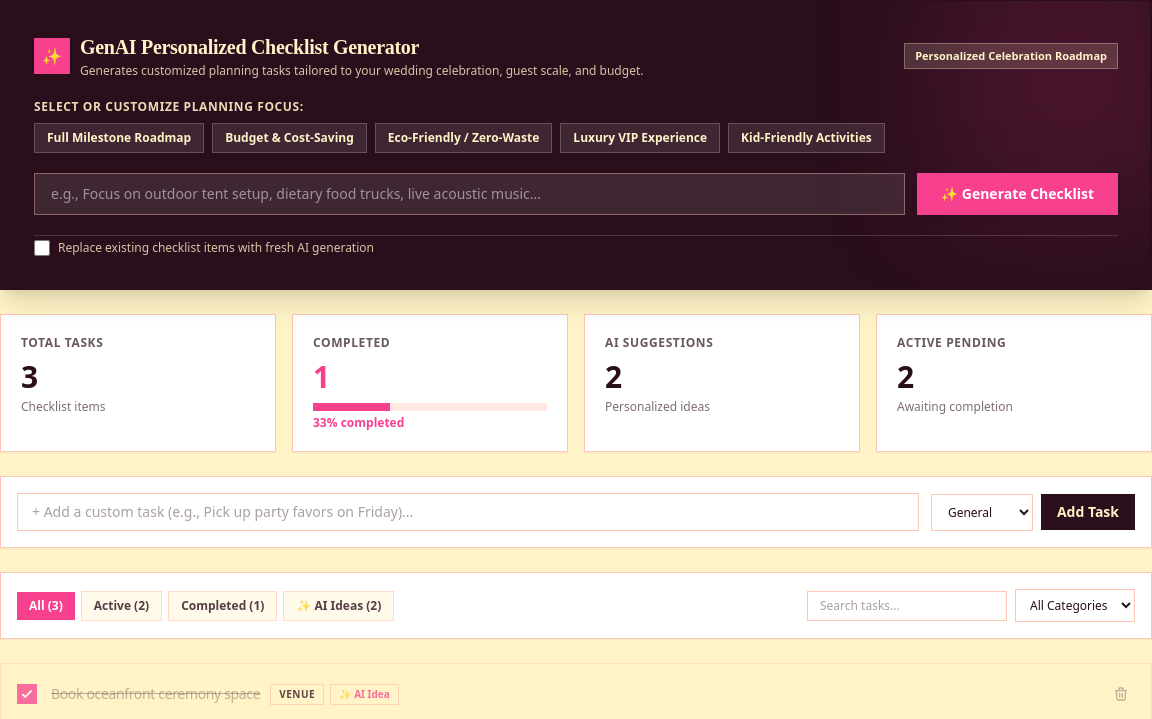
ChecklistTracker Component › filters items by Active, Completed, and AI-only tabs
The width and height of the screenshot is (1152, 719).
Expected: the text "Book oceanfront ceremony space" is shown, [51, 684, 260, 704]
Note: Filter Active
Click the button "Active (2)": (122, 606) [81, 590, 162, 620]
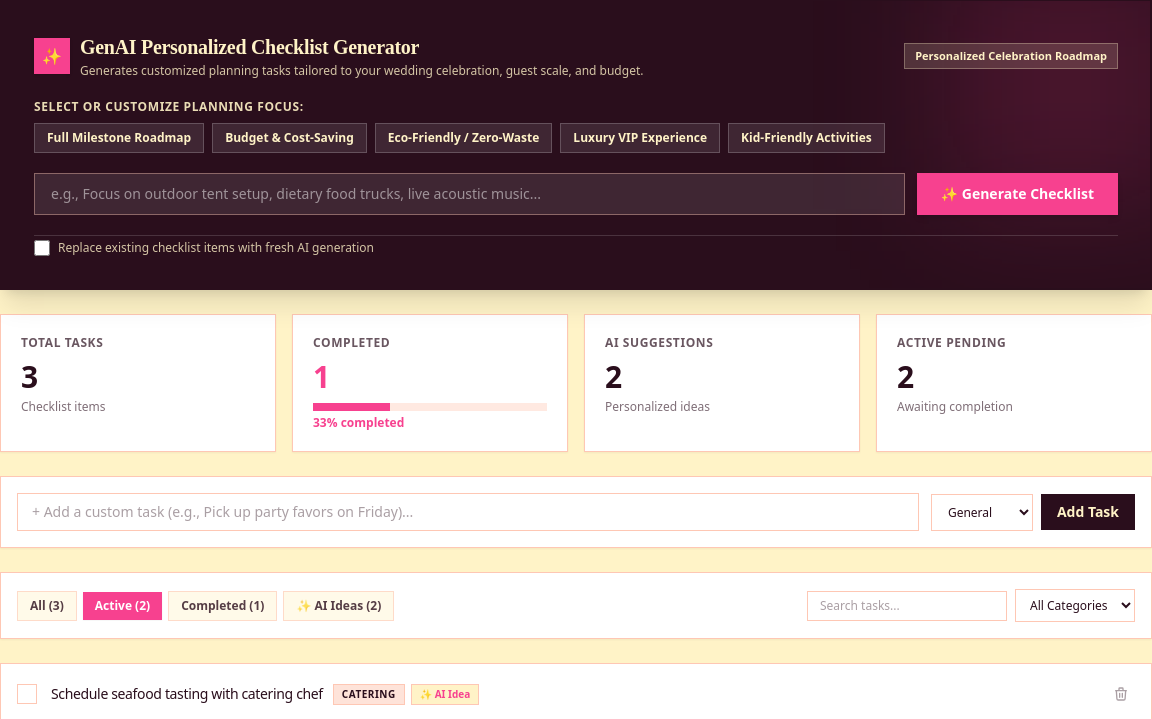
Expected: the text "Schedule seafood tasting with catering chef" is shown, [51, 684, 323, 704]
Now the text "Book oceanfront ceremony space" is gone
Note: Filter Completed
Click the button "Completed (1)": (223, 606) [168, 590, 277, 620]
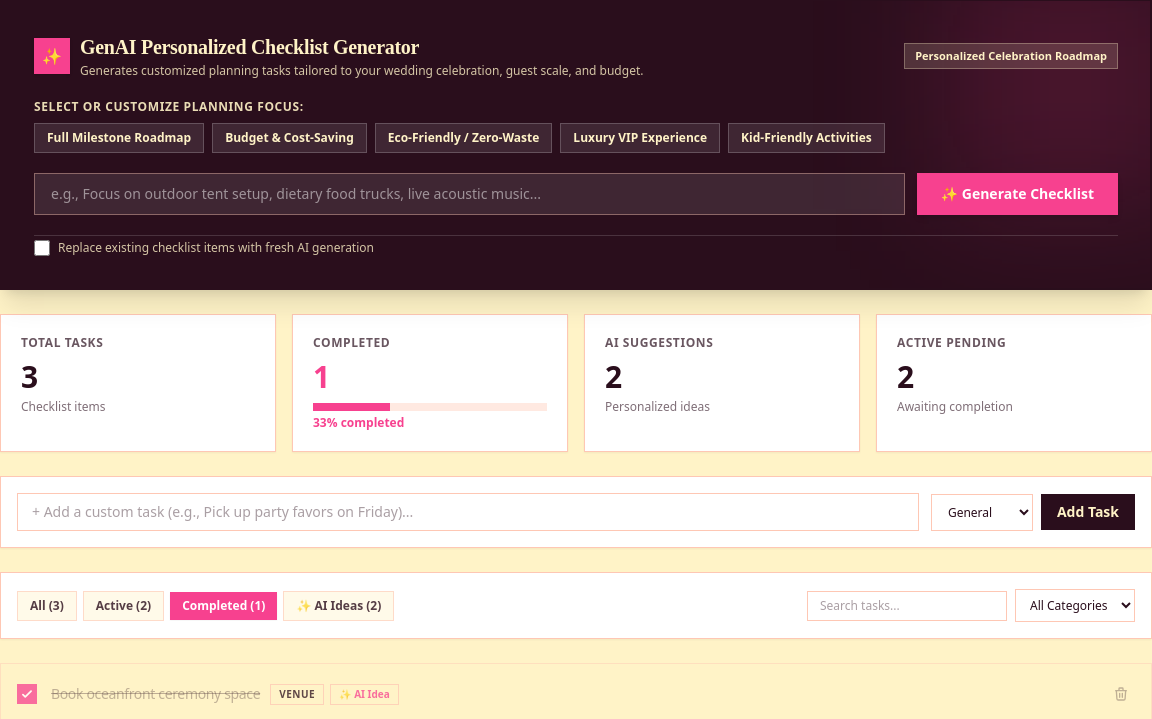
Now the text "Book oceanfront ceremony space" is shown, box [51, 684, 260, 704]
Now the text "Schedule seafood tasting with catering chef" is gone
Note: Filter AI Ideas
Click the button "✨ AI Ideas (2)": (339, 606) [283, 590, 394, 620]
(page scrolled)
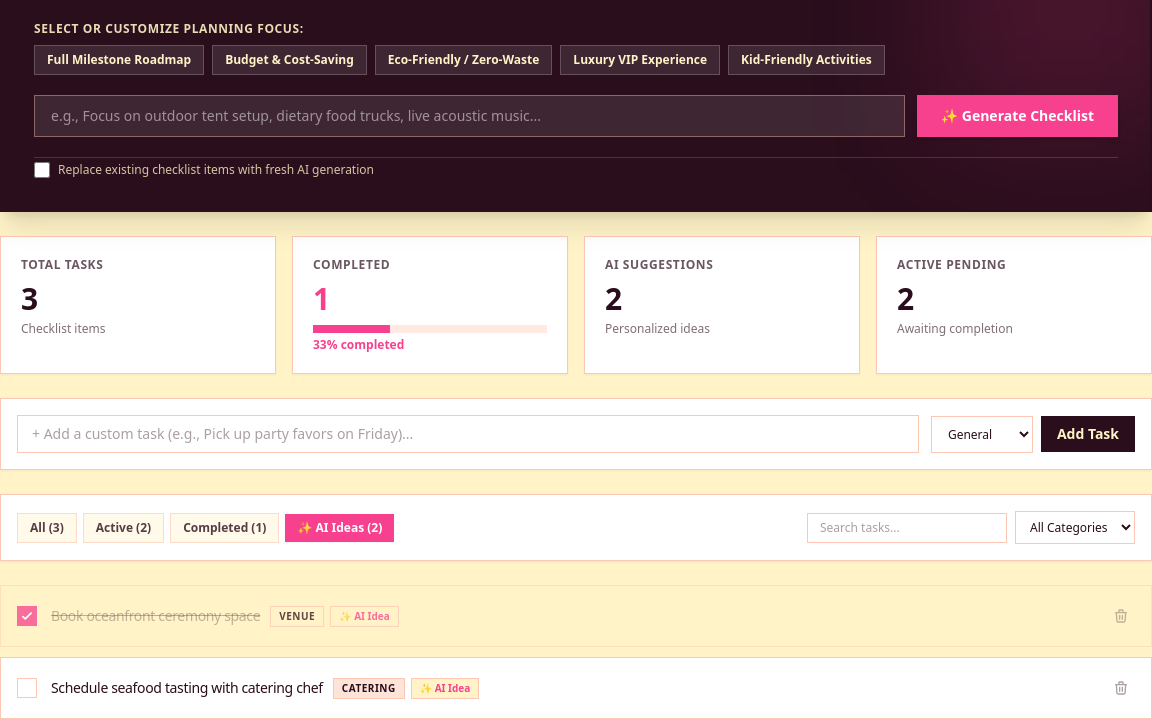
Now the text "Book oceanfront ceremony space" is shown, box [51, 606, 260, 626]
Now the text "Schedule seafood tasting with catering chef" is shown, box [51, 678, 323, 698]
